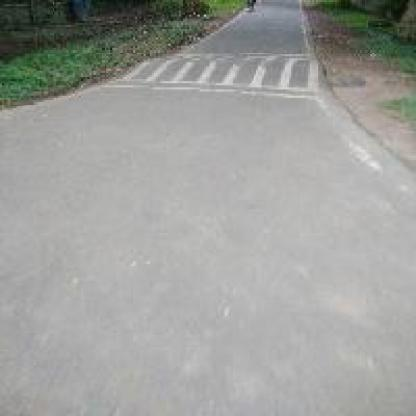Speed Bump: (98, 44, 322, 104)
